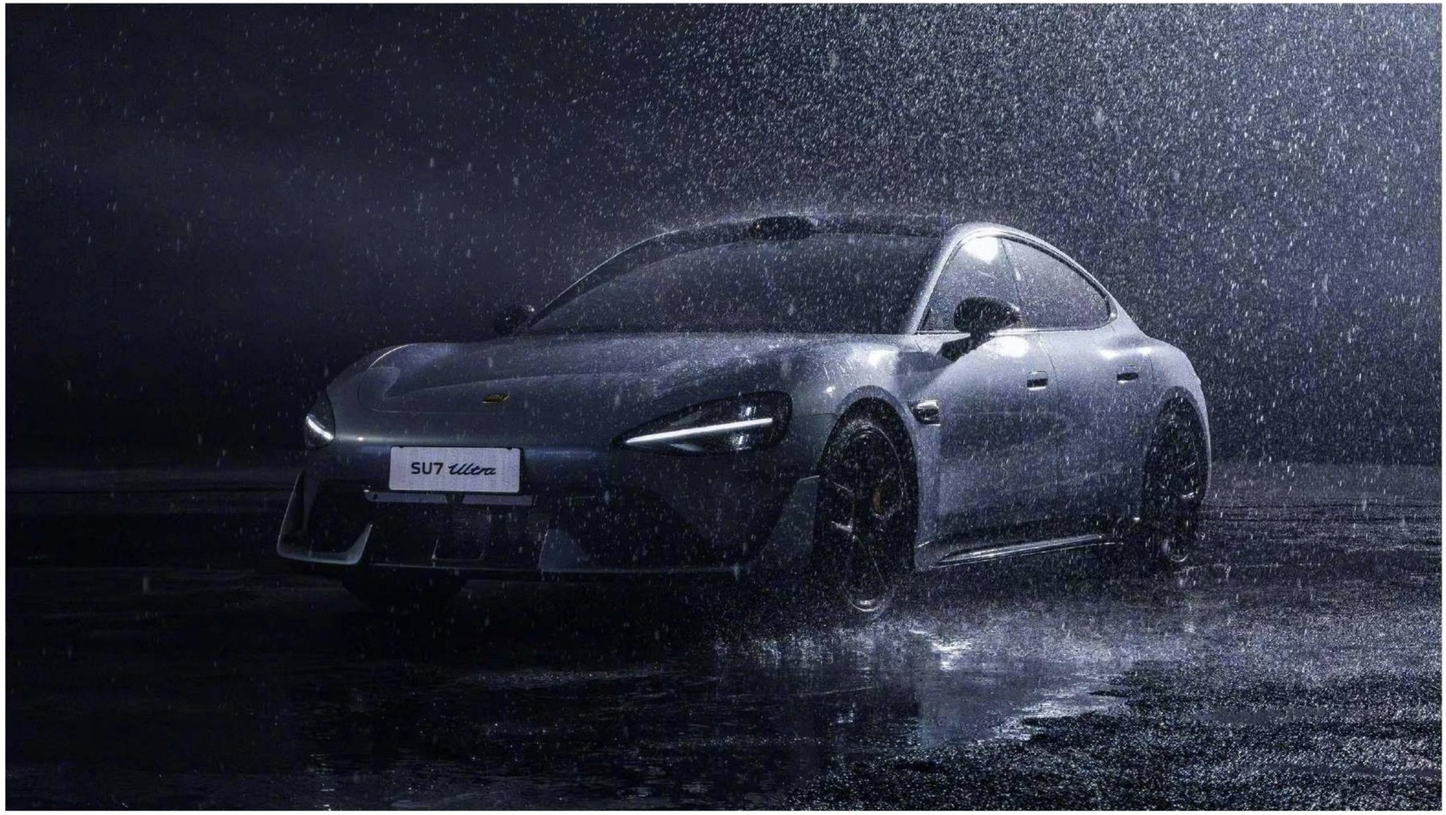su7: (275, 202, 1211, 609)
